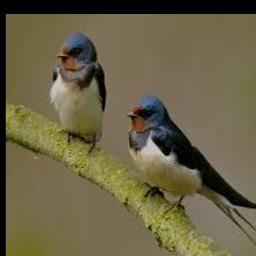Swallow: (126, 96, 256, 256), (50, 33, 107, 146)
